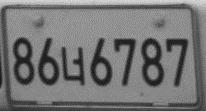6: (90, 36, 113, 86), (37, 36, 59, 86)
7: (113, 37, 137, 87), (165, 37, 189, 86)
8: (139, 37, 164, 86), (12, 36, 35, 84)
너: (61, 45, 85, 86)
